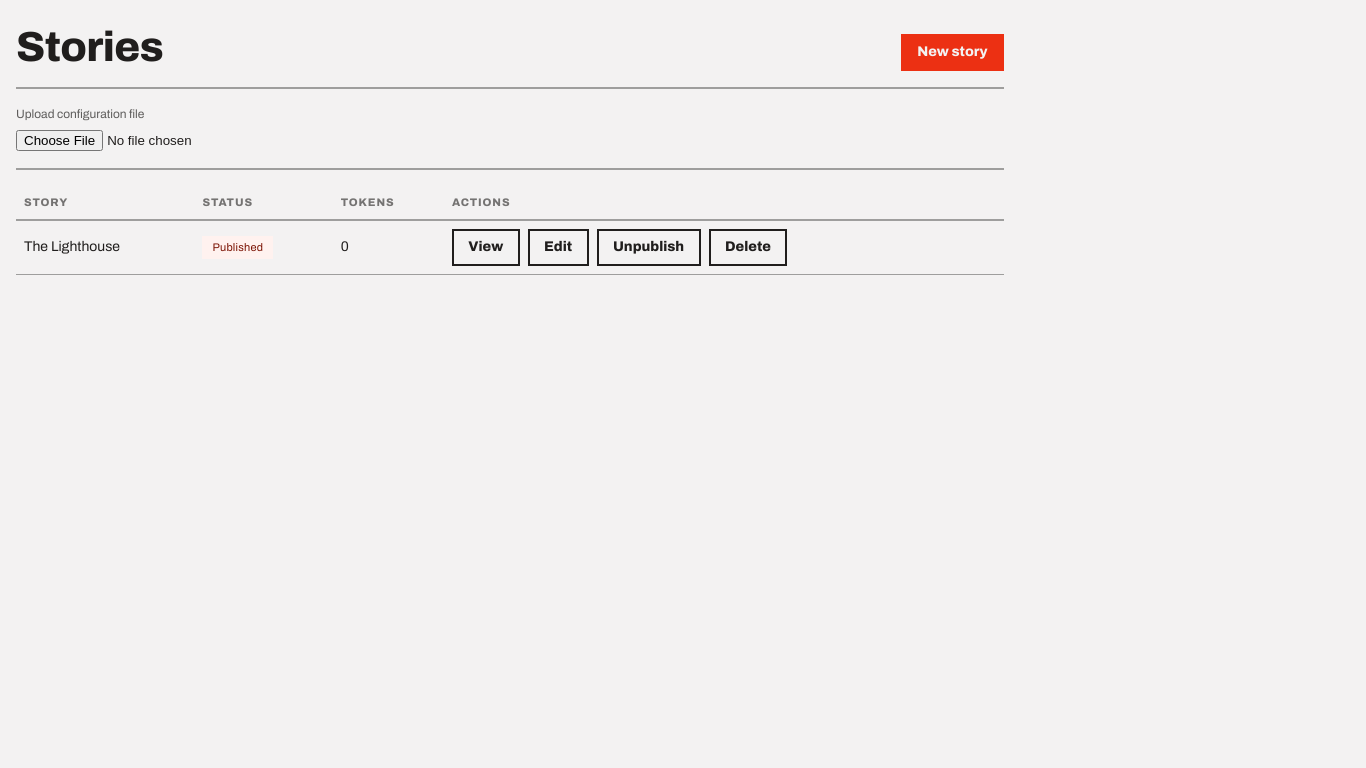
Test: Admin stories list publish/unpublish (FR-007, FR-010, FR-011, FR-013, FR-014, FR-016) › confirming unpublishes and updates just that row in place
The image size is (1366, 768).
Click the button "Unpublish".
click(649, 247)  # box top-left (596, 229), bottom-right (701, 266)
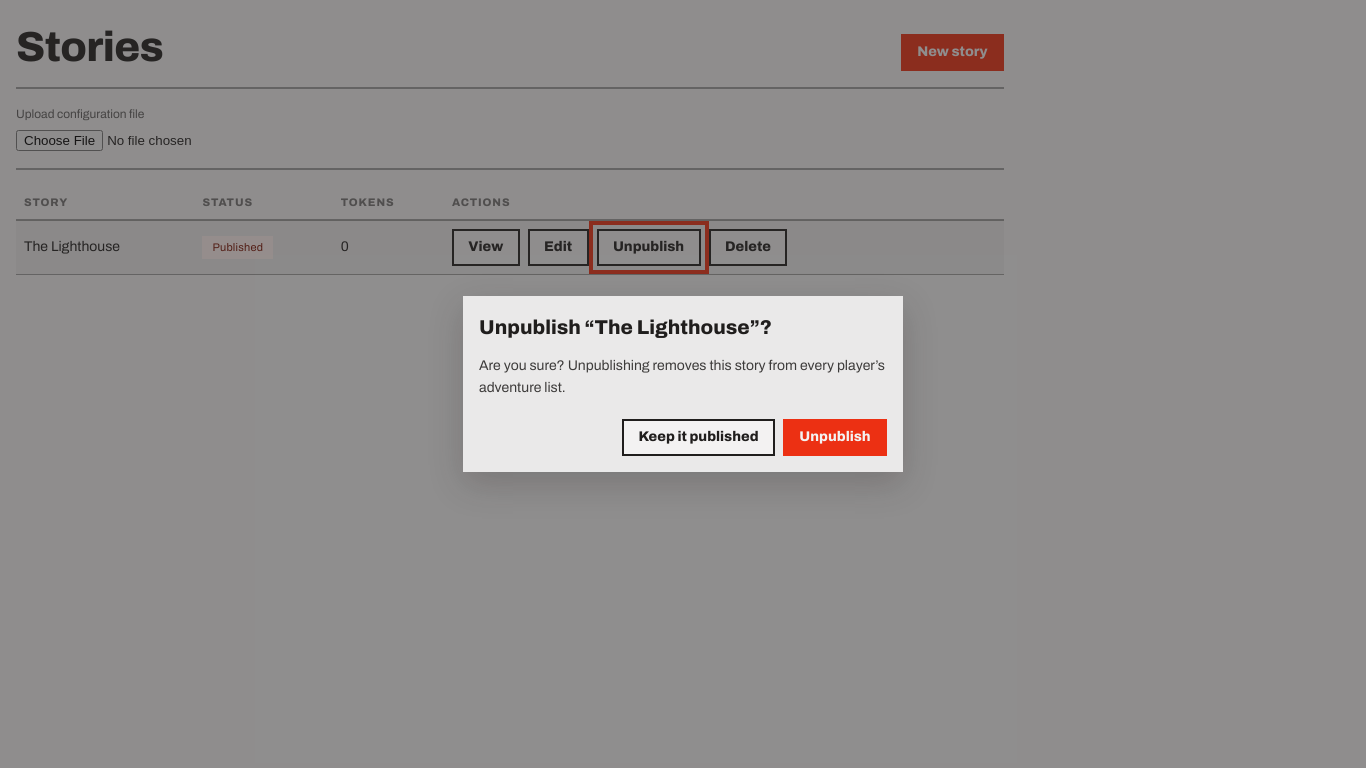
Click the button "Unpublish" below "Unpublish “".
click(835, 437)  # box top-left (783, 419), bottom-right (887, 456)
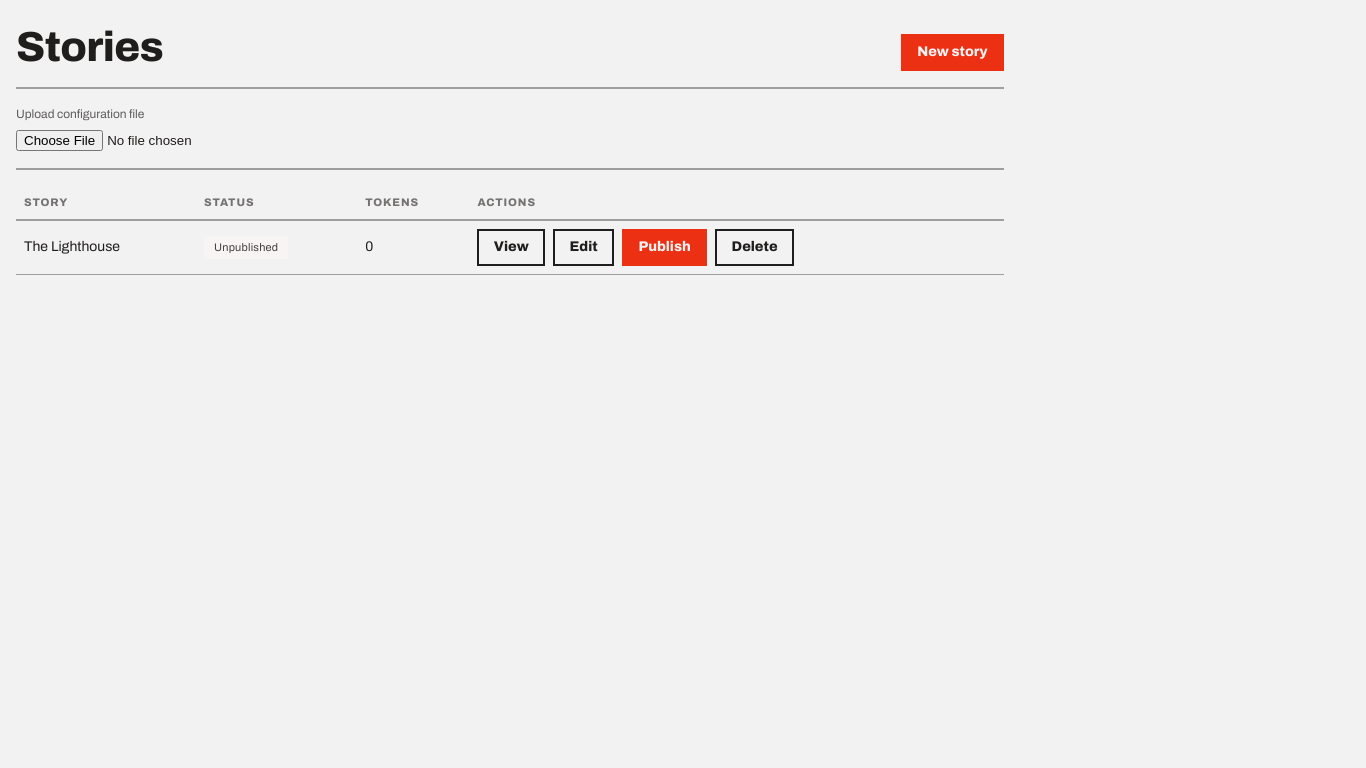
Expected: the text with class "tag" reads "Unpublished", top-left (214, 241), bottom-right (278, 253)
